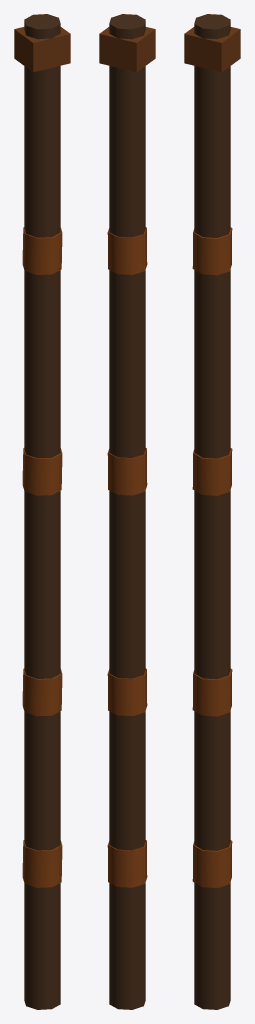
The model's file is rusty_pipe.obj.
3 views of the same model, side by side, from view 1: azimuth 30°, elevation 25°; view 2: azimuth 150°, elevation 25°; view 3: azimuth 330°, elevation 25° (orthographic).
Visible parts, largest first — view 1: cyl_0, box_1, cyl_5, cyl_4, cyl_2, cyl_3; view 2: cyl_0, box_1, cyl_2, cyl_3, cyl_4, cyl_5; view 3: cyl_0, box_1, cyl_2, cyl_3, cyl_5, cyl_4.
Boxes of the visible parts, x1=… form: cyl_0: x1=24, y1=14, x2=60, y2=1009; box_1: x1=14, y1=27, x2=70, y2=72; cyl_5: x1=22, y1=227, x2=62, y2=274; cyl_4: x1=22, y1=448, x2=62, y2=495; cyl_2: x1=22, y1=840, x2=62, y2=887; cyl_3: x1=22, y1=668, x2=62, y2=716; cyl_0: x1=109, y1=14, x2=145, y2=1009; box_1: x1=99, y1=27, x2=155, y2=72; cyl_2: x1=107, y1=840, x2=147, y2=887; cyl_3: x1=107, y1=668, x2=147, y2=716; cyl_4: x1=107, y1=448, x2=147, y2=495; cyl_5: x1=107, y1=227, x2=147, y2=274; cyl_0: x1=194, y1=14, x2=230, y2=1009; box_1: x1=184, y1=27, x2=240, y2=72; cyl_2: x1=192, y1=840, x2=232, y2=887; cyl_3: x1=192, y1=668, x2=232, y2=716; cyl_5: x1=192, y1=227, x2=232, y2=275; cyl_4: x1=192, y1=448, x2=232, y2=495.
Bounding box in the file's own units: 0.16 × 4 × 0.152.
